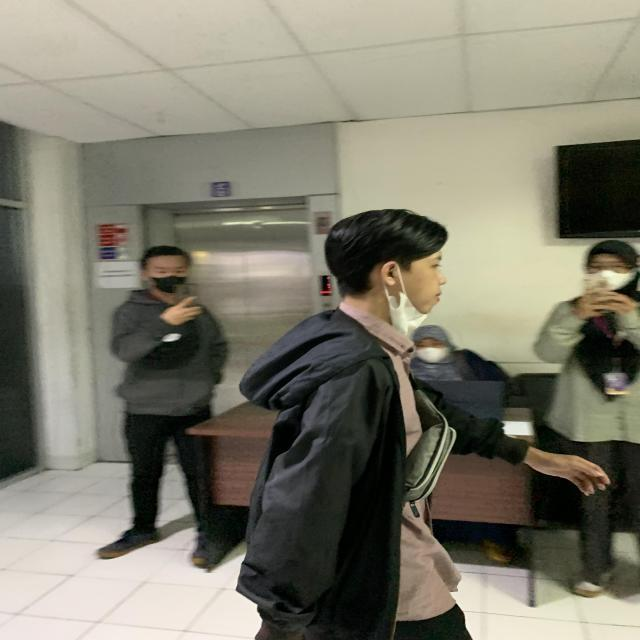hairnet: (315, 210, 458, 322)
